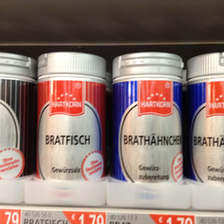spices: (111, 50, 184, 184), (36, 51, 105, 181), (186, 52, 224, 183)
